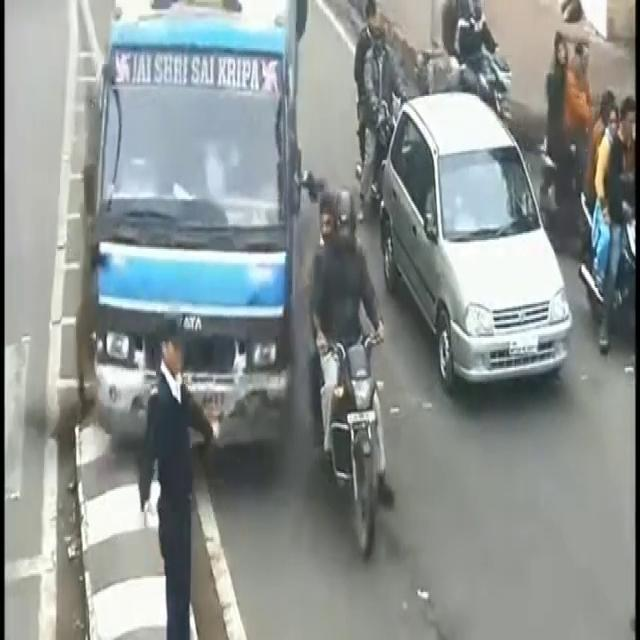accident: (47, 0, 323, 551)
